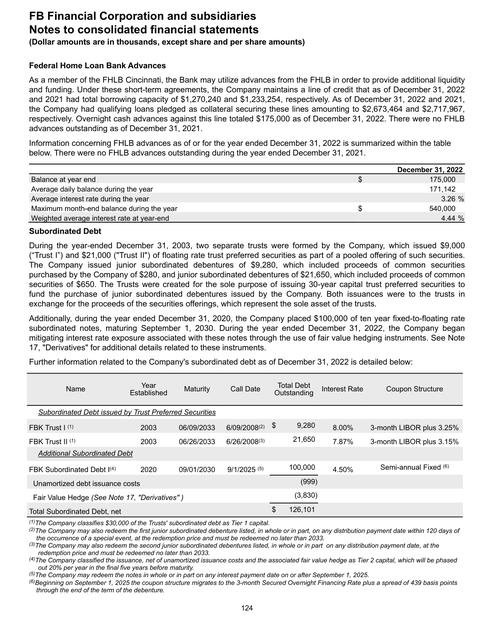box: (25, 372, 465, 518), (27, 160, 467, 225)
